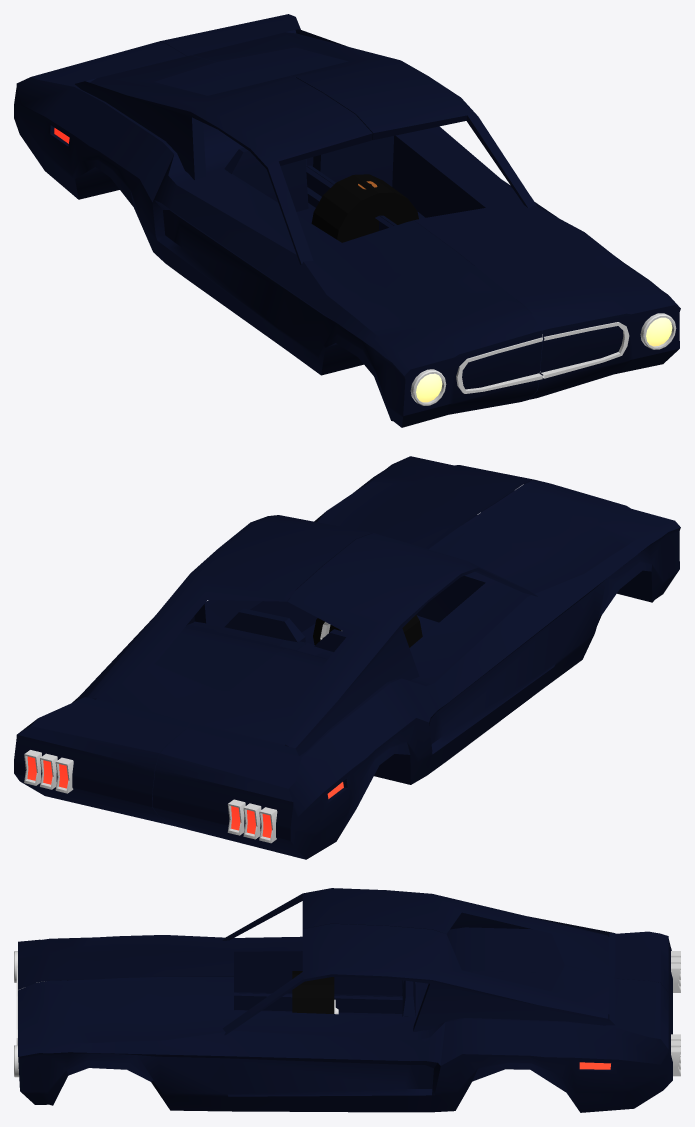
File: ford-mustang-fastback-1968.gltf
3 views of the same model, one above another, from view 1: azimuth 30°, elevation 25°; view 2: azimuth 150°, elevation 25°; view 3: azimuth 270°, elevation 25° (orthographic). The views are drawn at different scales.
Parts seen in each view (by area): view 1: car, wheel; view 2: car, wheel; view 3: car, wheel.
Part boxes in pixels (x1,y1,x2,y2): car: [14, 14, 680, 427]; wheel: [311, 174, 418, 242]; car: [14, 456, 680, 859]; wheel: [313, 614, 422, 647]; car: [14, 888, 680, 1112]; wheel: [292, 971, 338, 1014].
Bounding box in the file's own units: 2.49 × 1.36 × 6.02.
